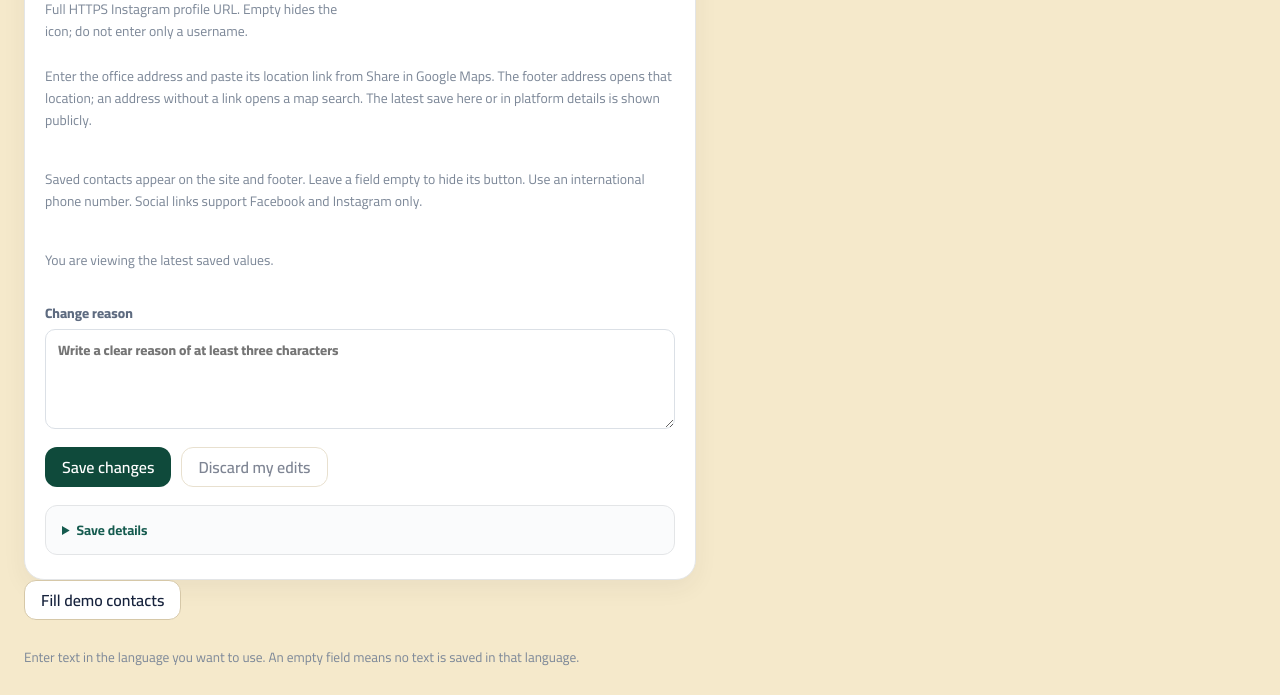
Test: Admin platform, contact, and social settings › surfaces an optimistic version conflict instead of overwriting the draft
(page scrolled)
Type "Update contact details" into the text box labelled "Change reason" at (360, 378), box x1=45 y1=328 x2=675 y2=428
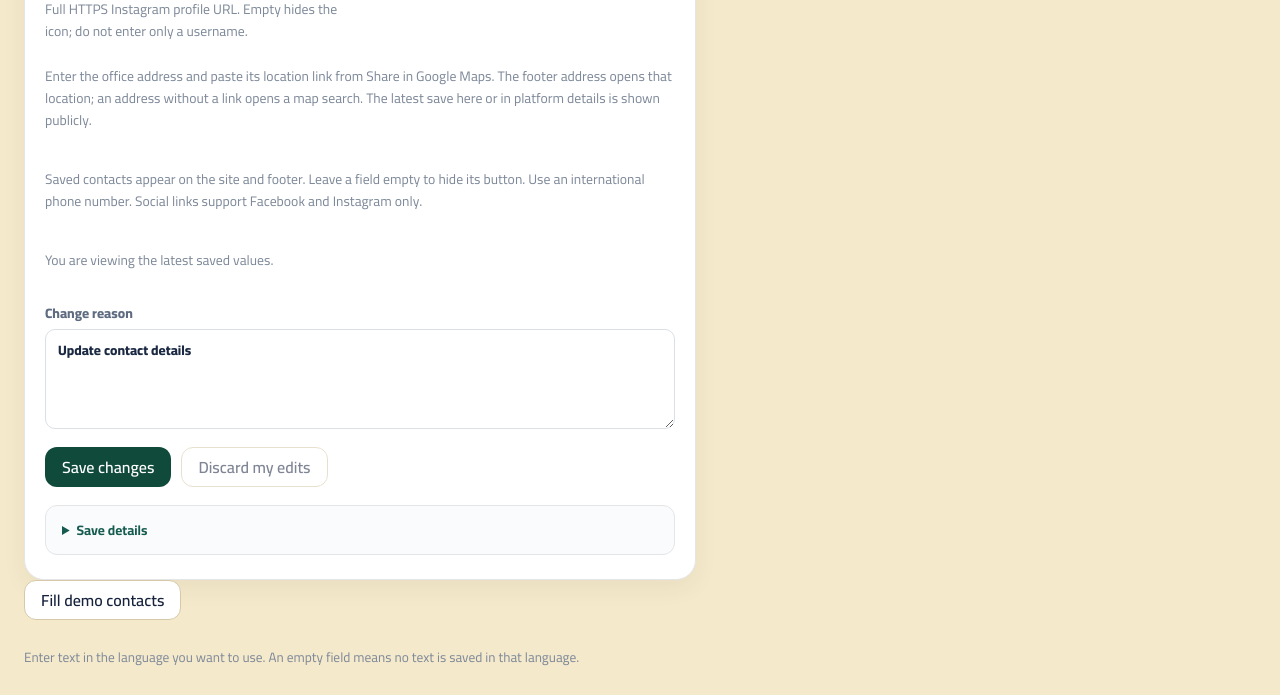
Click the button "Save changes" at (108, 466), box x1=45 y1=446 x2=171 y2=486
(page scrolled)
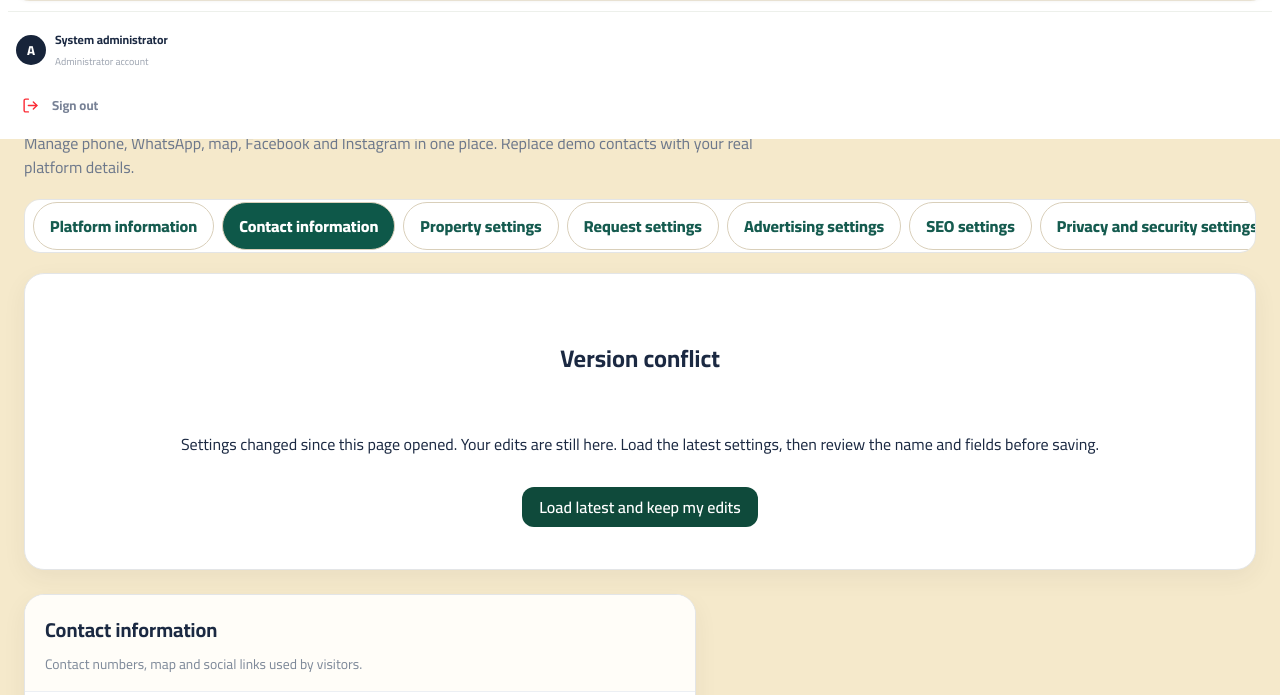
Expected: the heading "Version conflict" is shown, x1=560 y1=336 x2=720 y2=381
